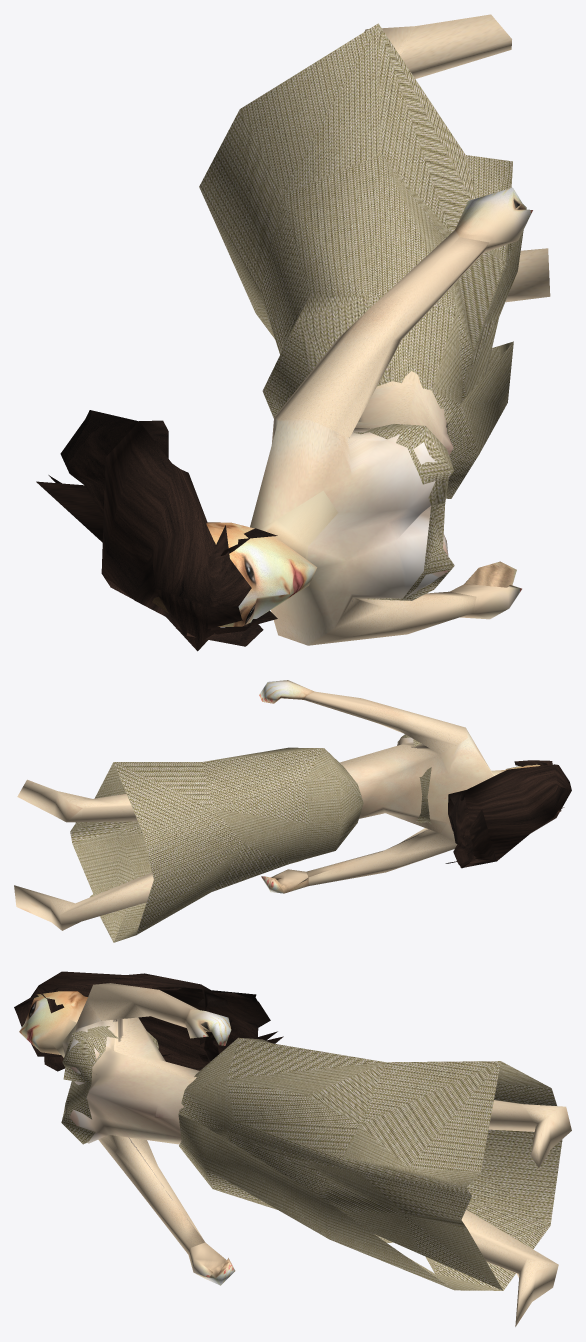
Rendered from worker_000152.obj.
3 renders of one model, top to bottom at view 1: azimuth 30°, elevation 25°; view 2: azimuth 150°, elevation 25°; view 3: azimuth 270°, elevation 25°, orthographic. The views are drawn at different scales.
Visible parts, largest first — view 1: saree_Cylinder, body.001_omino.012, hair.003_omino.013; view 2: saree_Cylinder, body.001_omino.012, hair.003_omino.013; view 3: saree_Cylinder, body.001_omino.012, hair.003_omino.013.
Part boxes in pixels (bbox=[...]): saree_Cylinder: bbox=[199, 23, 526, 600]; body.001_omino.012: bbox=[152, 14, 550, 645]; hair.003_omino.013: bbox=[36, 410, 277, 651]; saree_Cylinder: bbox=[70, 734, 431, 942]; body.001_omino.012: bbox=[14, 680, 540, 930]; hair.003_omino.013: bbox=[445, 760, 571, 868]; saree_Cylinder: bbox=[61, 1026, 562, 1290]; body.001_omino.012: bbox=[19, 983, 571, 1326]; hair.003_omino.013: bbox=[14, 971, 283, 1071].
Bounding box in the file's own units: 2.1 × 1.11 × 2.1.
